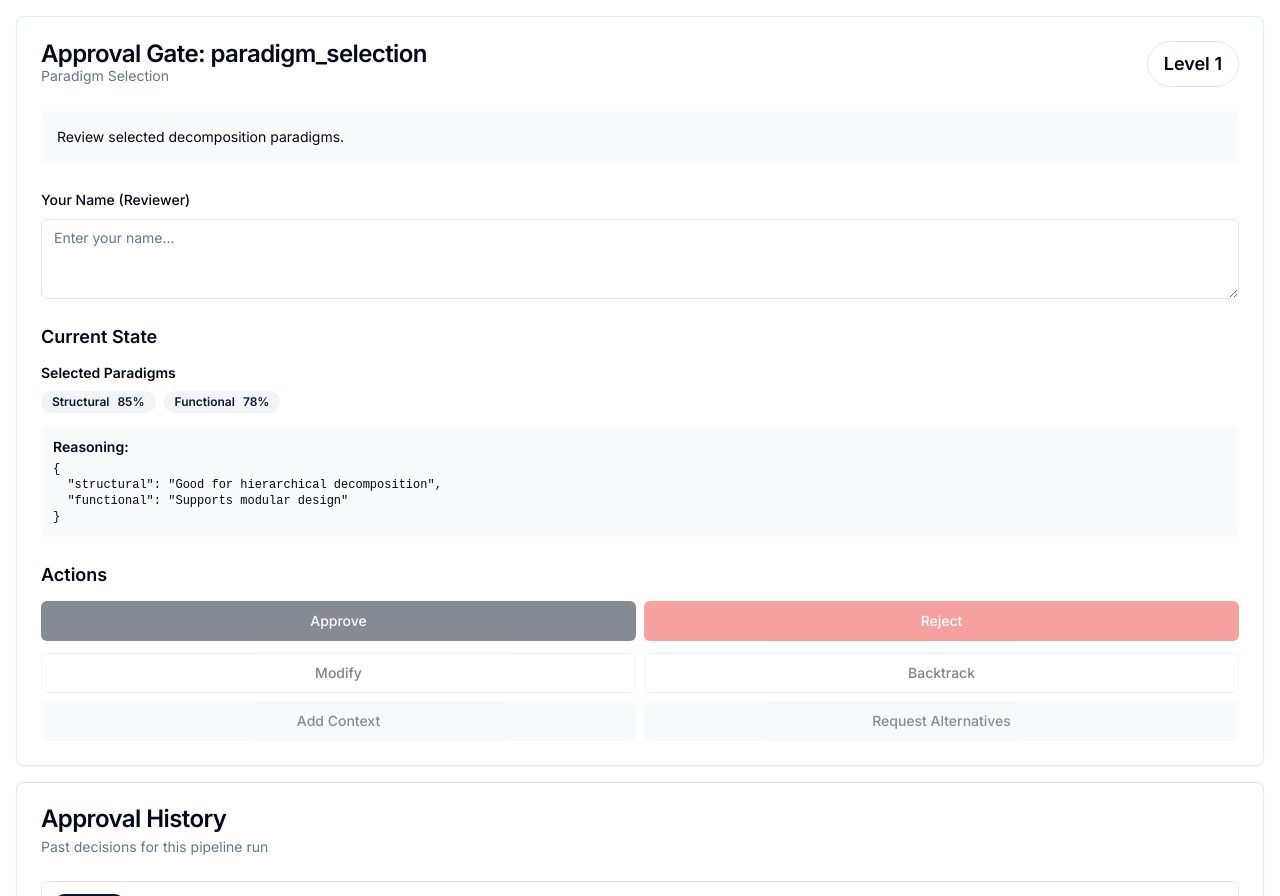
Test: HumanApprovalGatePanel › Reject Action › should open reject dialog when reject button is clicked
Type "John Doe" into the text box labelled "Your Name (Reviewer)" at {"x": 640, "y": 259}, box x1=41 y1=219 x2=1239 y2=299
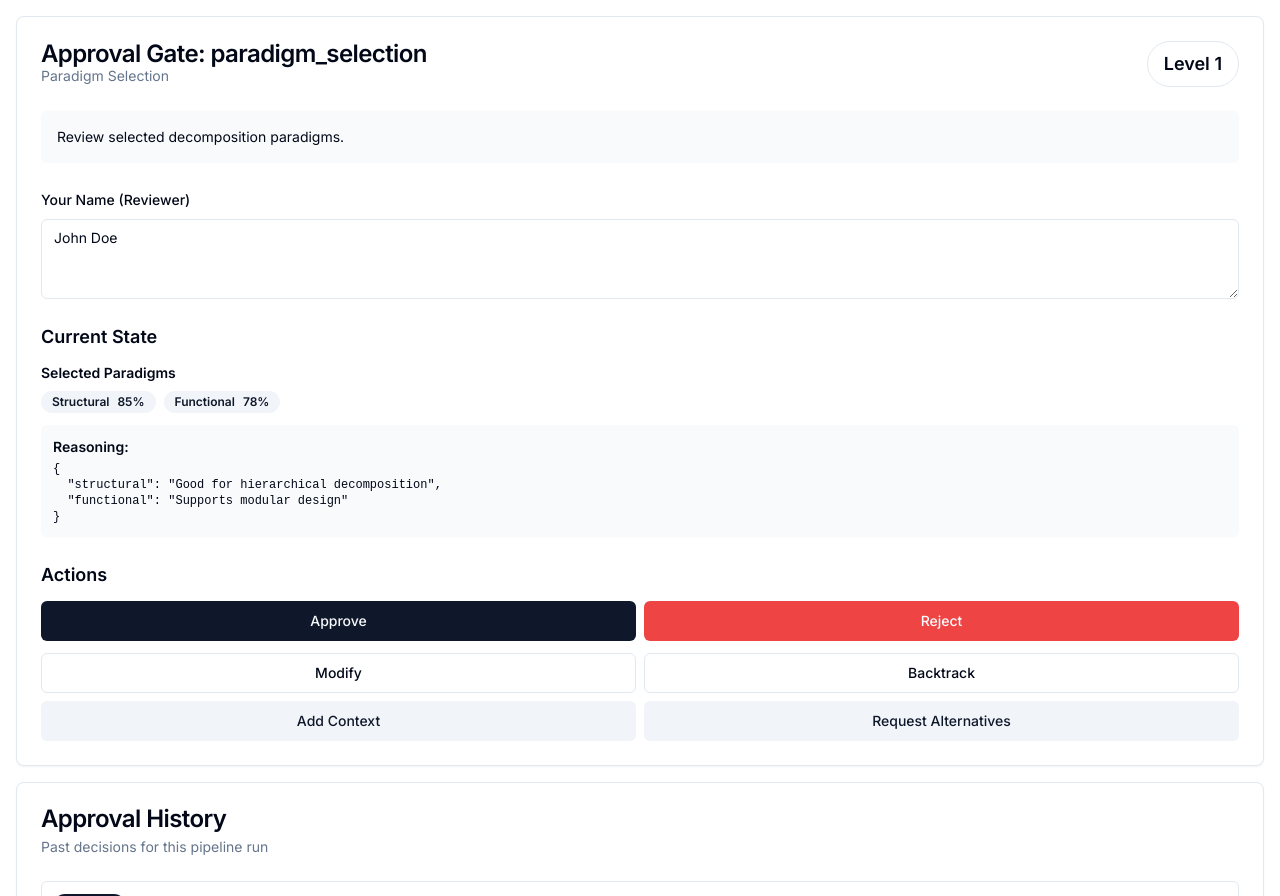
Click the button "Reject" at {"x": 942, "y": 621}, box x1=644 y1=601 x2=1239 y2=641
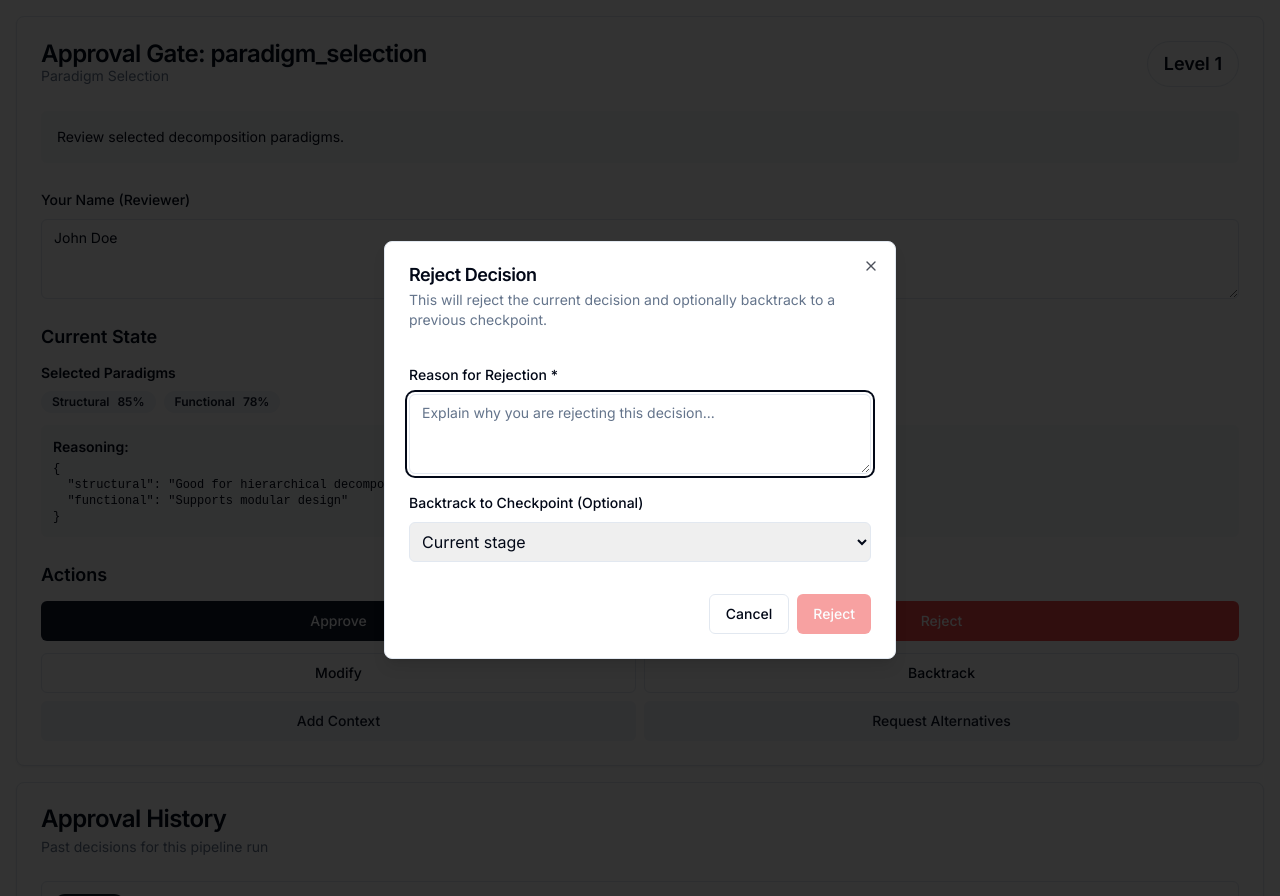
Check: the heading "Reject Decision" is shown, box x1=409 y1=264 x2=536 y2=285
